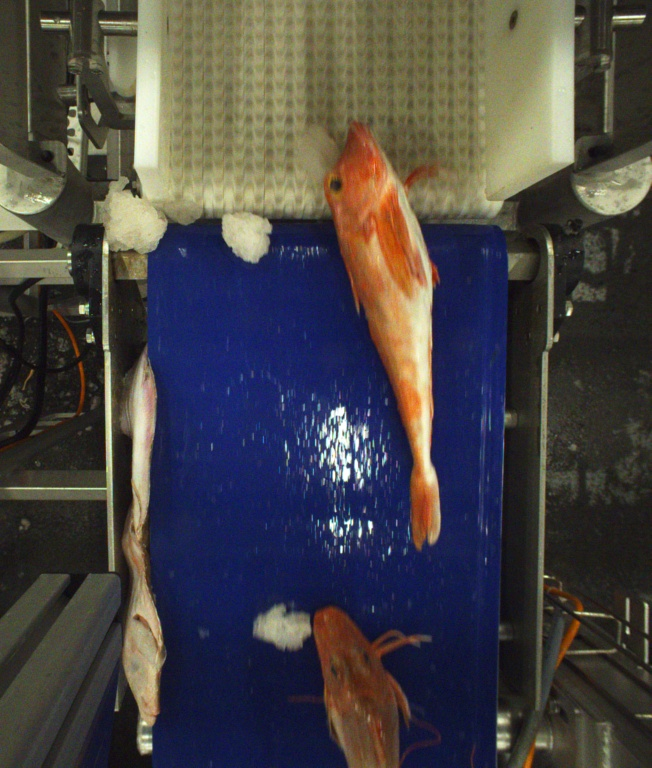GUU: (324, 117, 442, 550)
